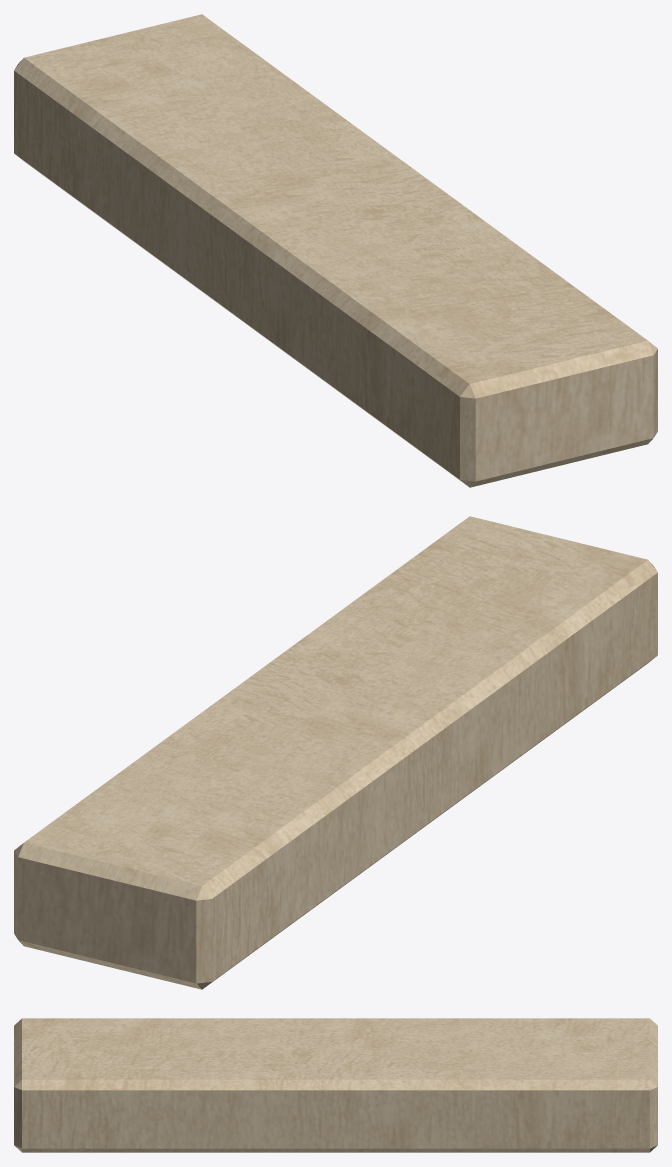
Rendered from plank_block_x2.glb.
3 views of the same model, one above another, from view 1: azimuth 30°, elevation 25°; view 2: azimuth 150°, elevation 25°; view 3: azimuth 270°, elevation 25° (orthographic). The views are drawn at different scales.
Parts seen in each view (by area): view 1: plank_x2; view 2: plank_x2; view 3: plank_x2.
Part boxes in pixels (left/top/right/bottom): plank_x2: left=14, top=14, right=657, bottom=487; plank_x2: left=14, top=516, right=657, bottom=989; plank_x2: left=14, top=1018, right=657, bottom=1152.
Bounding box in the file's own units: 2 × 1 × 8.
1 material, 1 textured.
